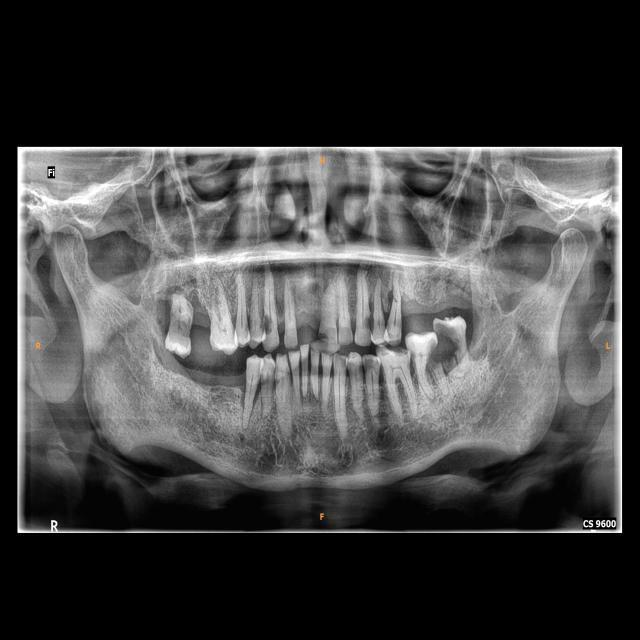dentin-curugu: (437, 320, 467, 356), (425, 344, 442, 377), (318, 326, 336, 355), (382, 345, 409, 359), (262, 311, 274, 339), (361, 312, 374, 332), (366, 357, 376, 372)
dolgu: (211, 330, 239, 352), (166, 335, 190, 357)
kok-enfeksiyonu: (359, 408, 404, 454)
